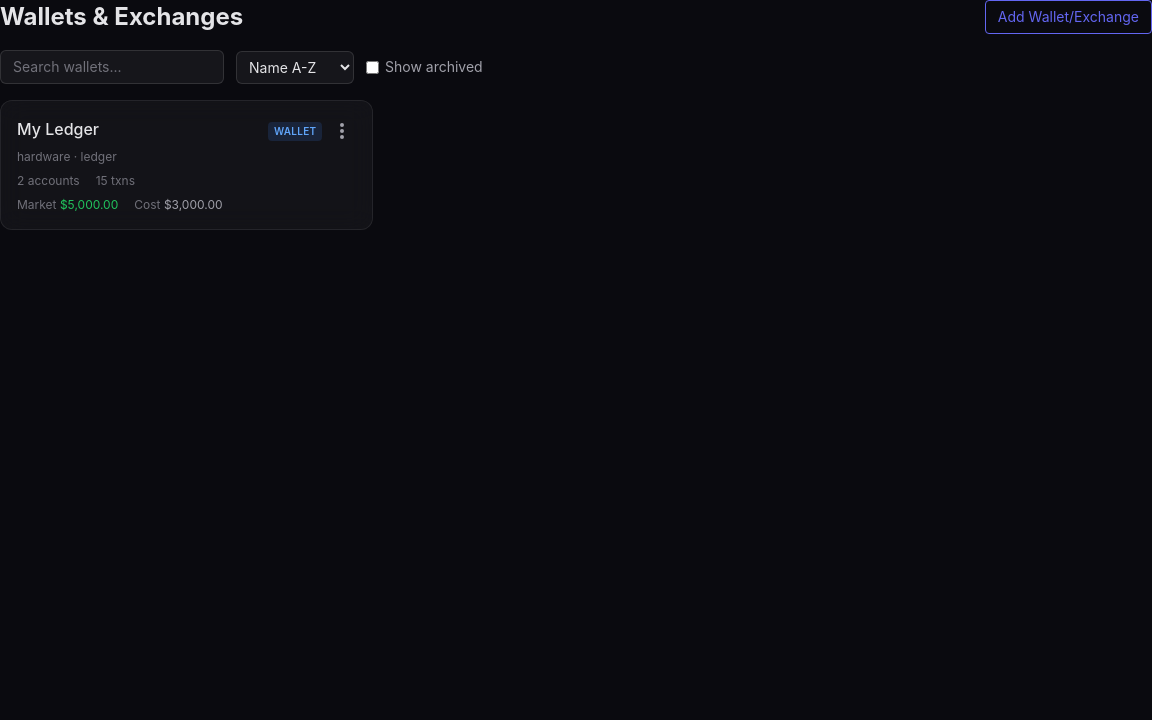
it: Wallets › shows delete confirmation modal
The width and height of the screenshot is (1152, 720).
Check: the text "My Ledger" is shown, box top-left (17, 119), bottom-right (99, 139)
# The DropdownMenu trigger is an SVG button (no text). Find it among all buttons.
Click the 2nd button: (342, 131) top-left (328, 117), bottom-right (356, 145)
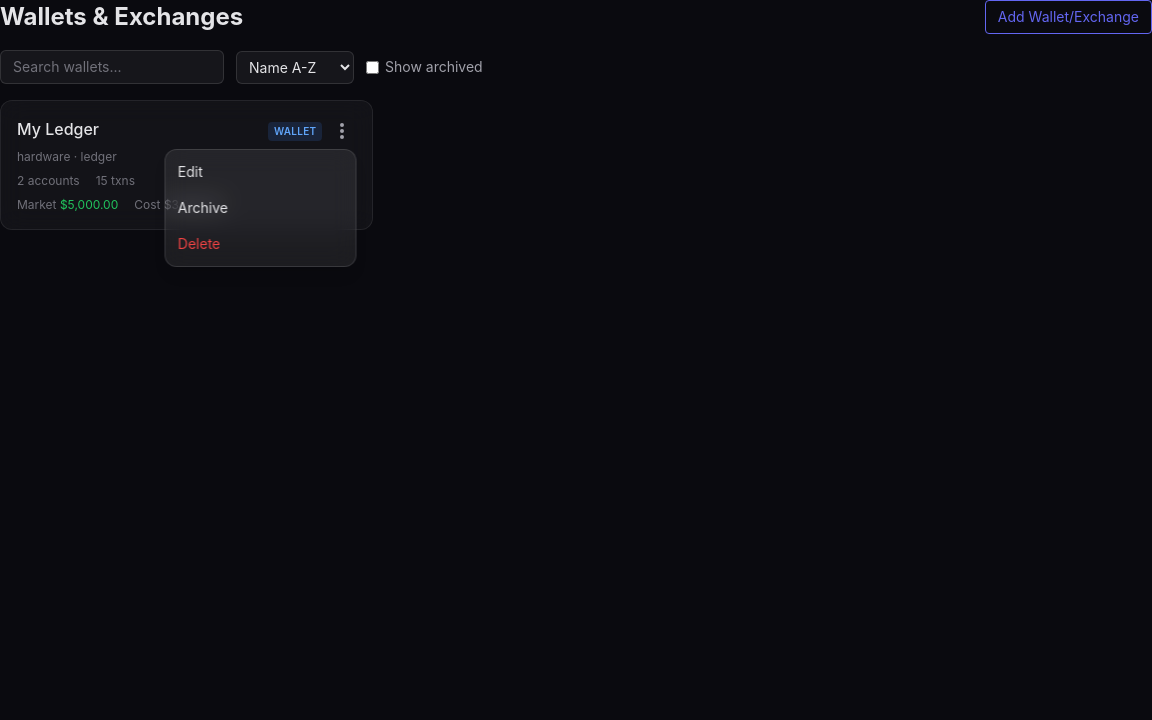
Check: the button "Delete" is shown
Click the button "Delete": (261, 244) top-left (166, 226), bottom-right (355, 262)
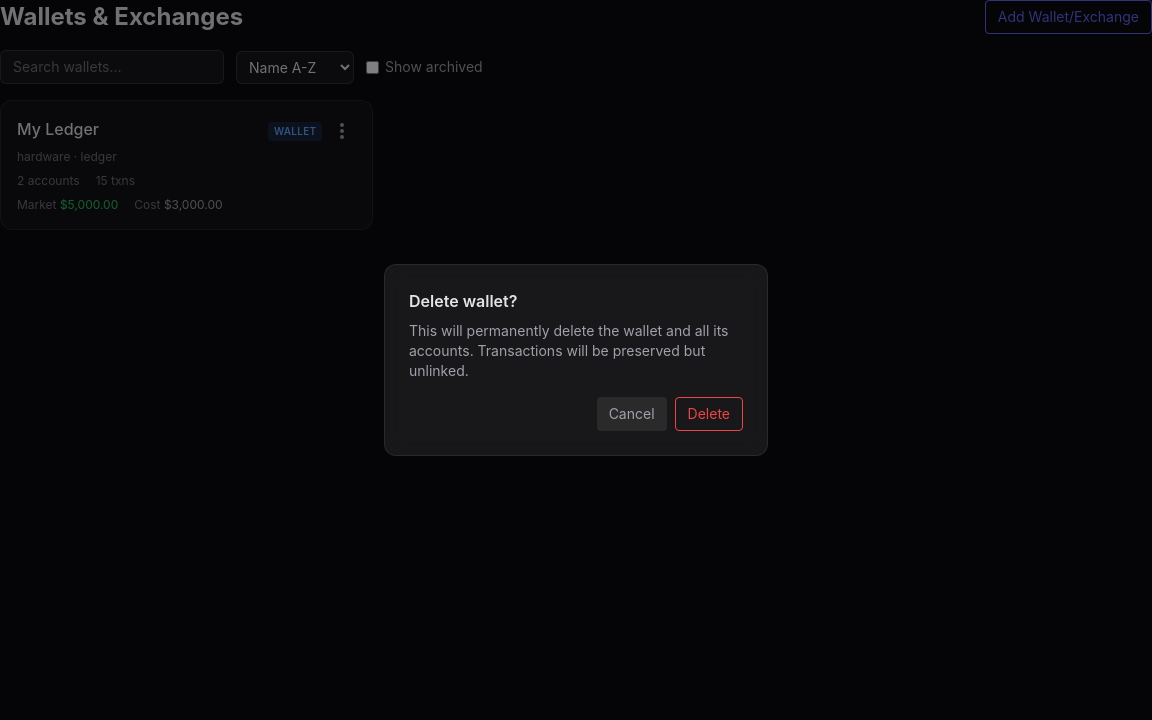
Check: the heading "Delete wallet?" is shown, box top-left (409, 291), bottom-right (517, 311)
Check: the text "permanently delete" is shown, box top-left (409, 322), bottom-right (728, 379)
